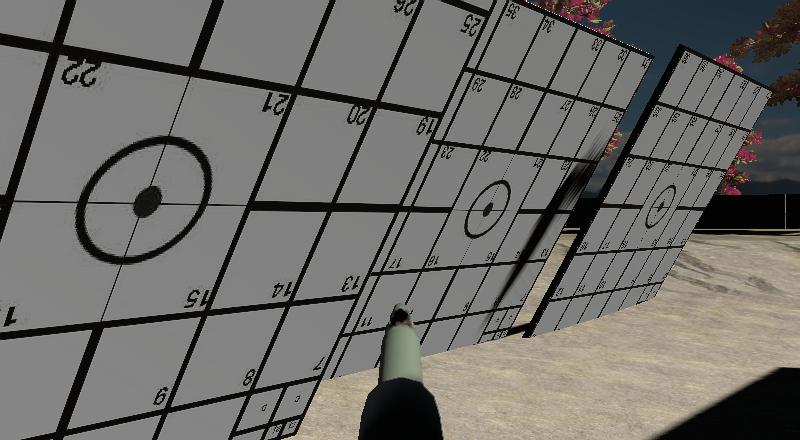Human: (333, 368, 467, 440)
